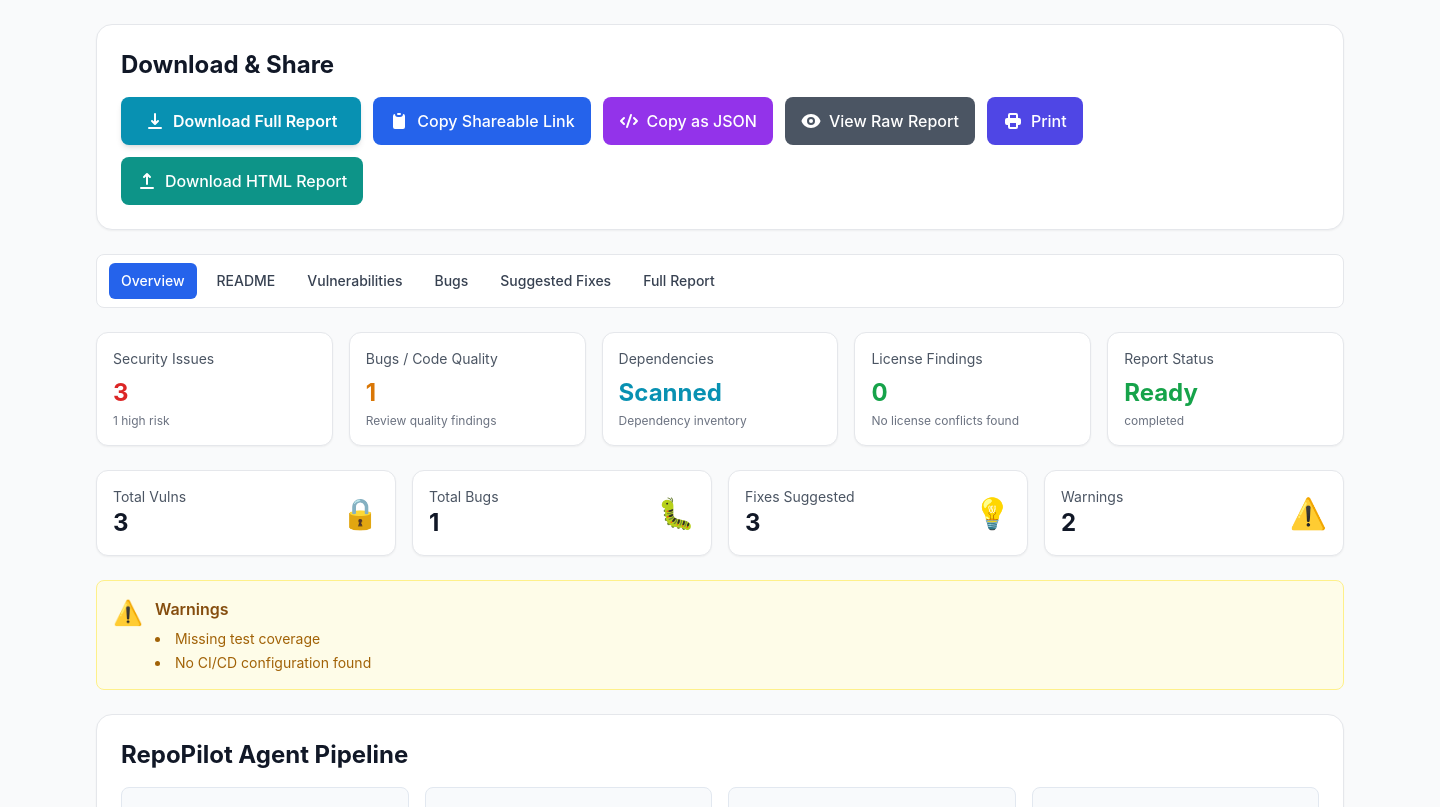
Scenario: ResultsDashboard › Expandable Rows › clicking a bug row expands the recommendation
This screenshot has width=1440, height=807.
Click the tab "Bugs" at (451, 281), box [422,263,480,299]
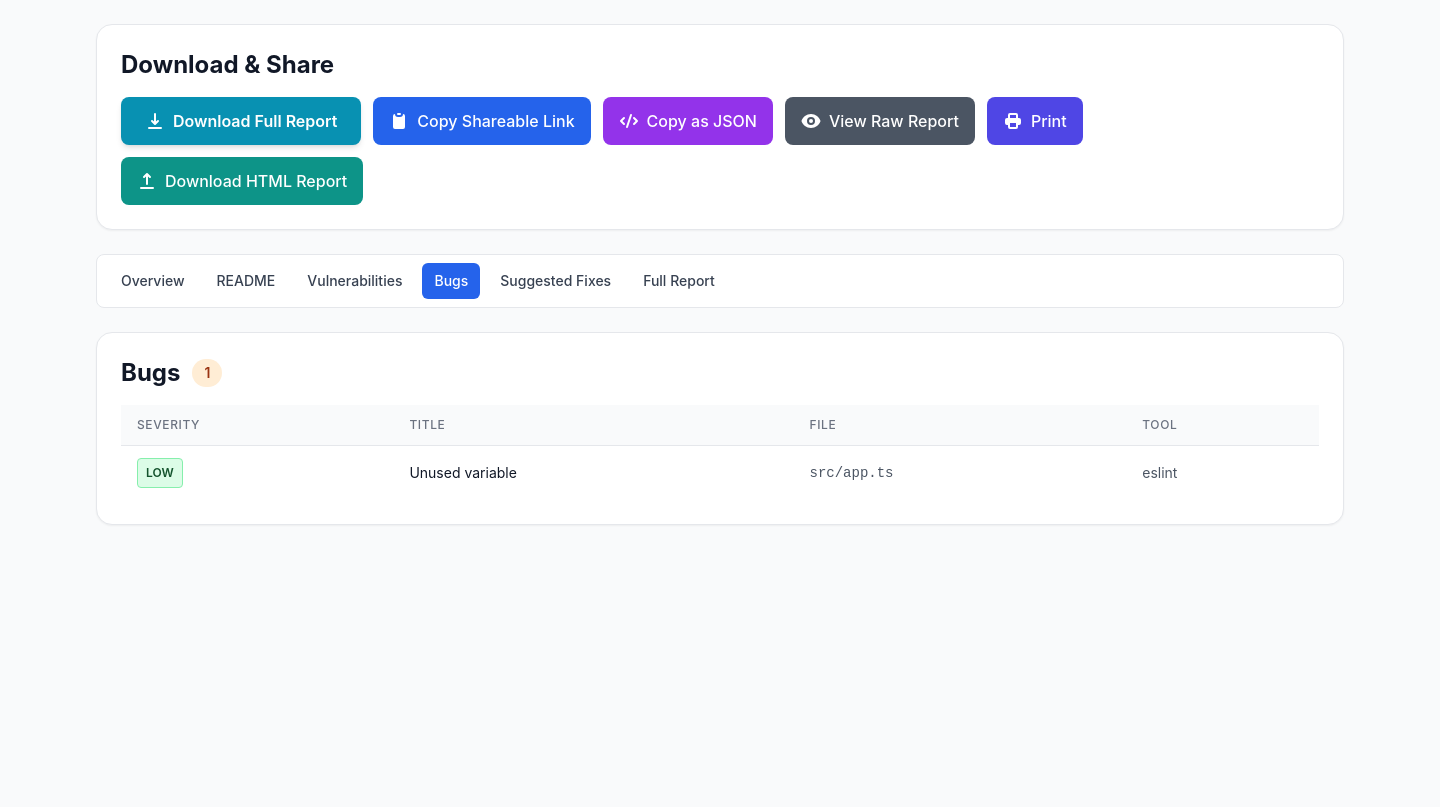
Expected: the text "Remove unused variable" is not shown
Click the text "Unused variable" at (463, 472), box [393,446,794,500]
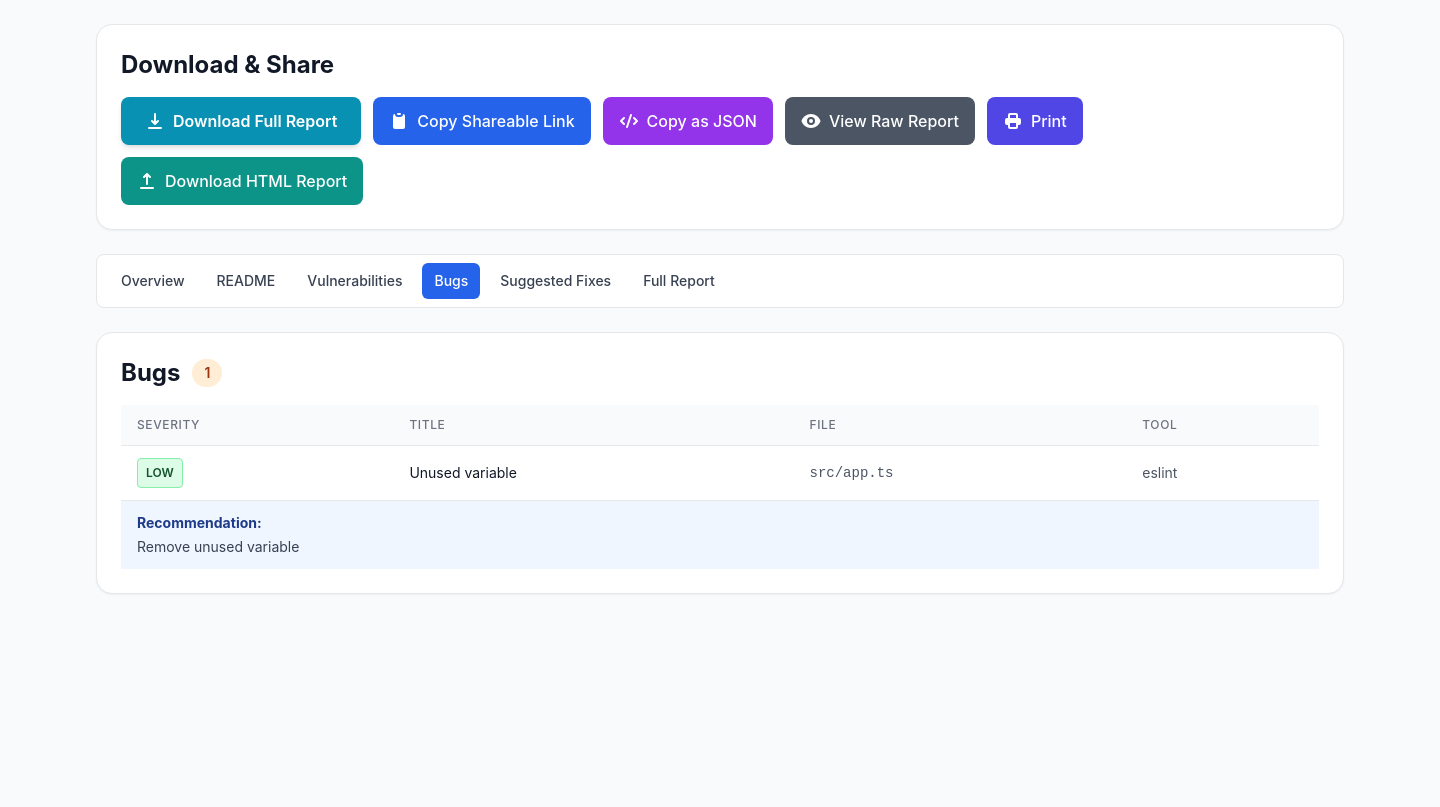
Expected: the text "Remove unused variable" is shown, [137,538,299,555]
